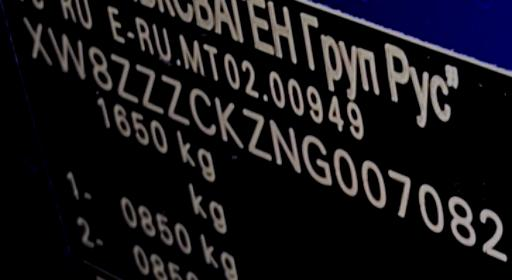letter: (266, 114, 306, 174), (45, 25, 87, 82), (298, 130, 334, 188), (238, 103, 274, 161), (18, 12, 54, 69), (476, 204, 508, 263), (134, 60, 166, 117), (158, 71, 190, 127), (186, 82, 218, 138), (213, 93, 245, 149), (444, 193, 476, 248), (108, 50, 140, 105), (358, 156, 388, 211), (416, 181, 446, 236), (330, 143, 358, 198), (385, 164, 413, 219), (86, 44, 114, 93)
